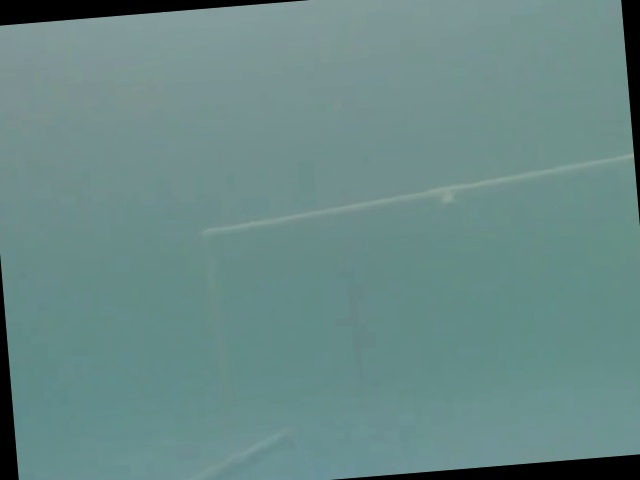gate: (171, 147, 637, 480)
